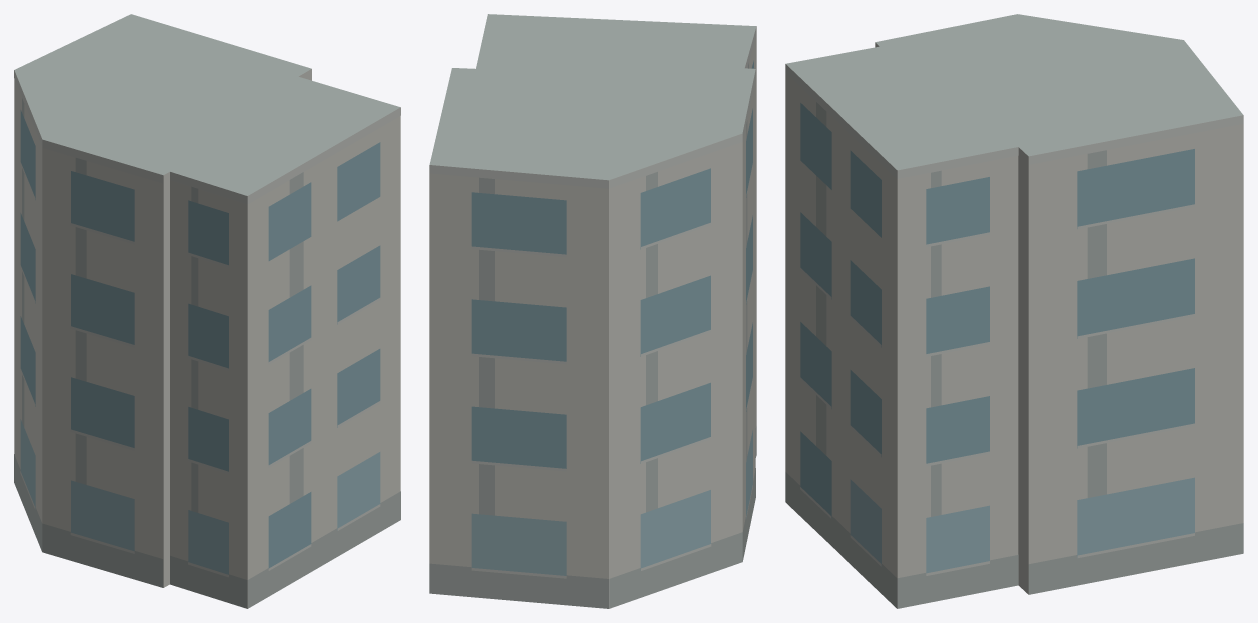
File: residential-c5ff1b22-eeb7-4386-908b-2fe01875ac44.glb
3 views of the same model, side by side, from view 1: azimuth 30°, elevation 25°; view 2: azimuth 150°, elevation 25°; view 3: azimuth 270°, elevation 25° (orthographic). The views are drawn at different scales.
Parts seen in each view (by area): view 1: residential-c5ff1b22-eeb7-4386-908b-2fe01875ac44.tmp; view 2: residential-c5ff1b22-eeb7-4386-908b-2fe01875ac44.tmp; view 3: residential-c5ff1b22-eeb7-4386-908b-2fe01875ac44.tmp.
Boxes of the visible parts, box(x1,y1,x2,y2) form: residential-c5ff1b22-eeb7-4386-908b-2fe01875ac44.tmp: box(14, 14, 400, 608); residential-c5ff1b22-eeb7-4386-908b-2fe01875ac44.tmp: box(429, 14, 756, 608); residential-c5ff1b22-eeb7-4386-908b-2fe01875ac44.tmp: box(785, 14, 1243, 608).
Size of the model in its own units: 9.35 by 12.2 by 11.57.
